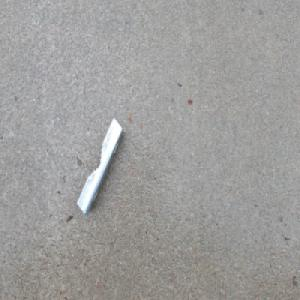ClampPart: (77, 116, 124, 216)
